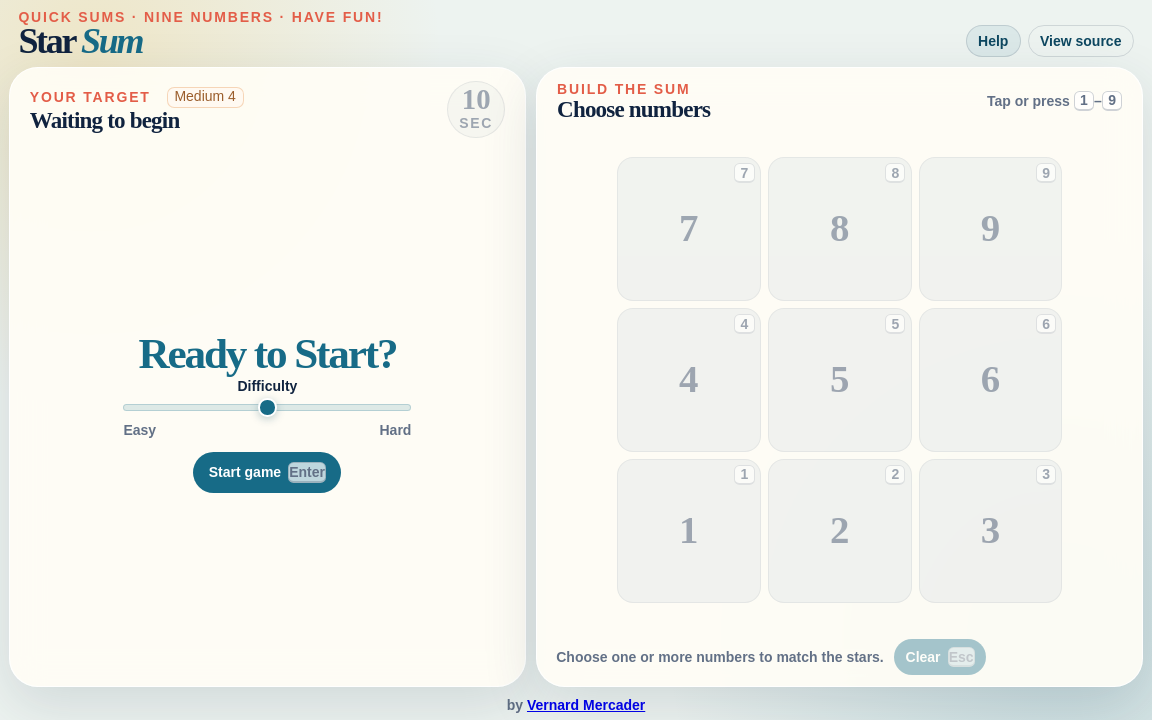
Test case: core gameplay › uses a number when it matches the target and creates a new target
Click the button "Start game Enter" at (267, 472), box [193,452,341,493]
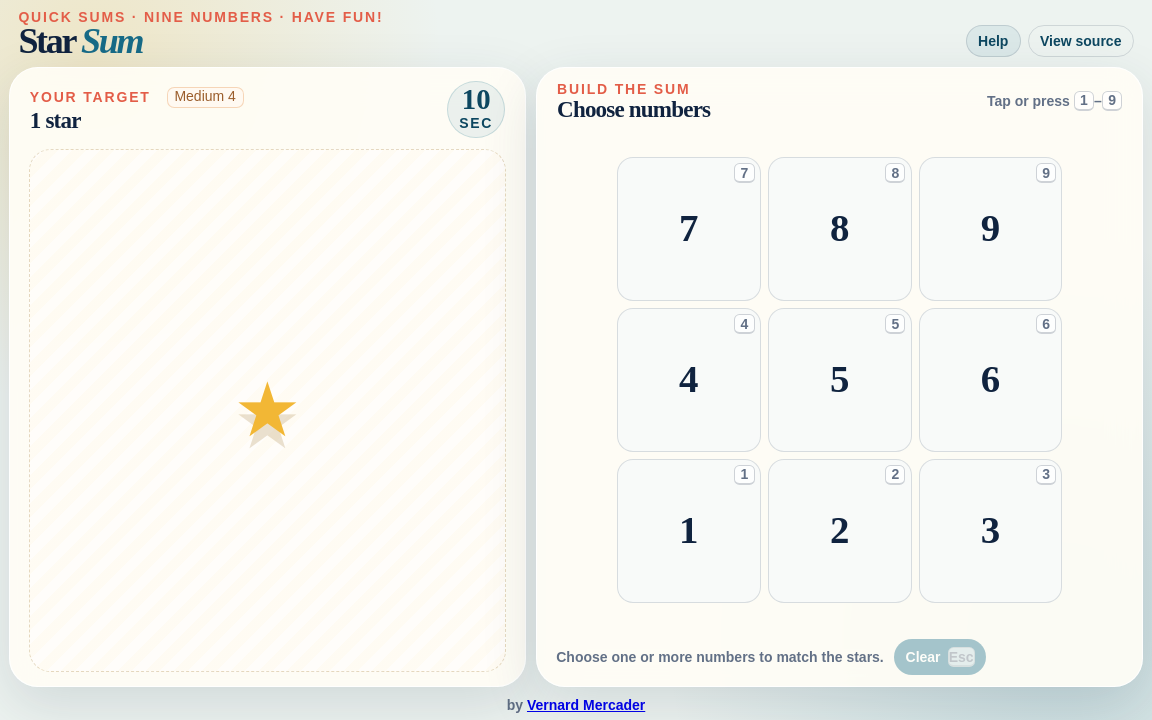
Click the button named "Number 1: available" at (689, 531), box [617,459,760,603]
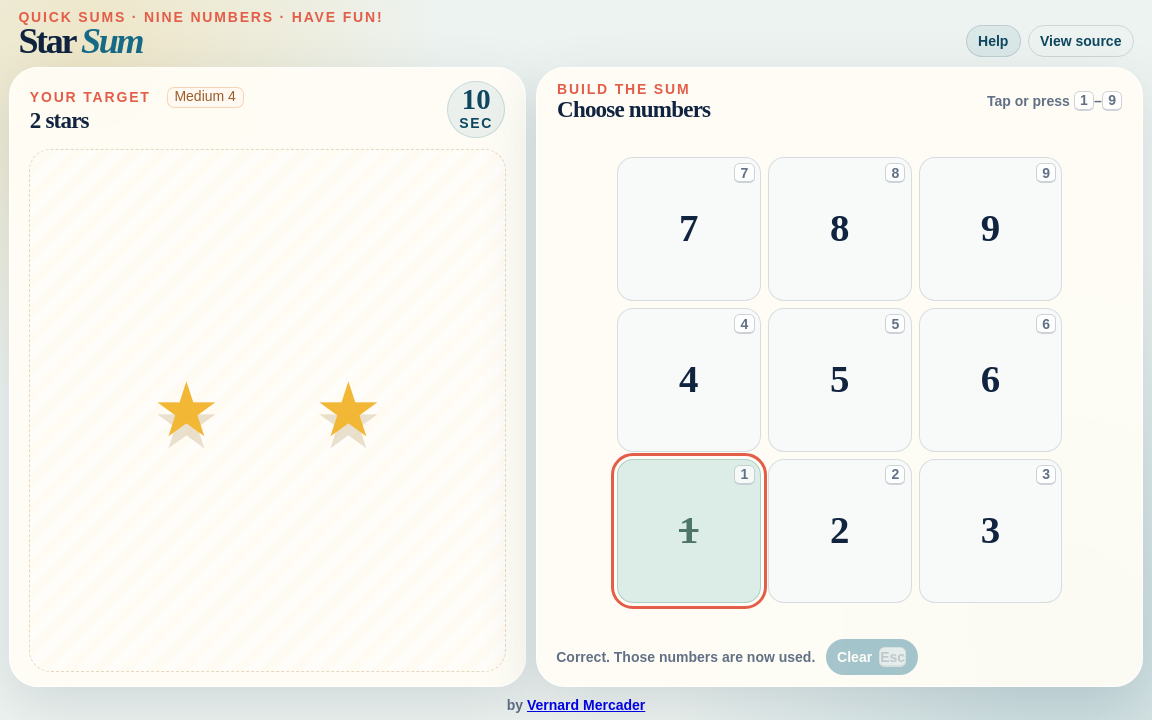
Now the picture named "Target: 2 stars" is shown, box [29,149,506,672]
